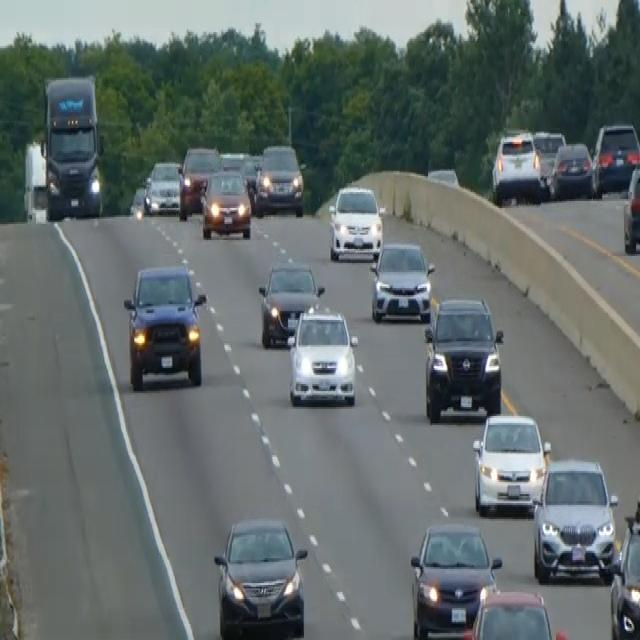car: (213, 514, 308, 638), (531, 455, 617, 583), (409, 519, 501, 638), (123, 261, 207, 391), (423, 294, 504, 422), (471, 410, 551, 516), (286, 304, 358, 407), (257, 258, 324, 348), (369, 238, 434, 324), (461, 585, 566, 638), (327, 183, 383, 261), (609, 498, 639, 638), (491, 128, 543, 204), (200, 167, 252, 240), (254, 142, 304, 217), (591, 121, 639, 195), (178, 144, 221, 217), (548, 139, 595, 199), (143, 158, 183, 215), (532, 128, 566, 188), (622, 160, 639, 254), (240, 153, 262, 204), (219, 150, 249, 174), (128, 183, 147, 217)
lorry: (39, 71, 105, 221)
